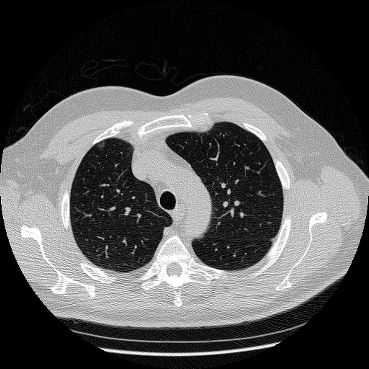nodule: (97, 141, 105, 149)
